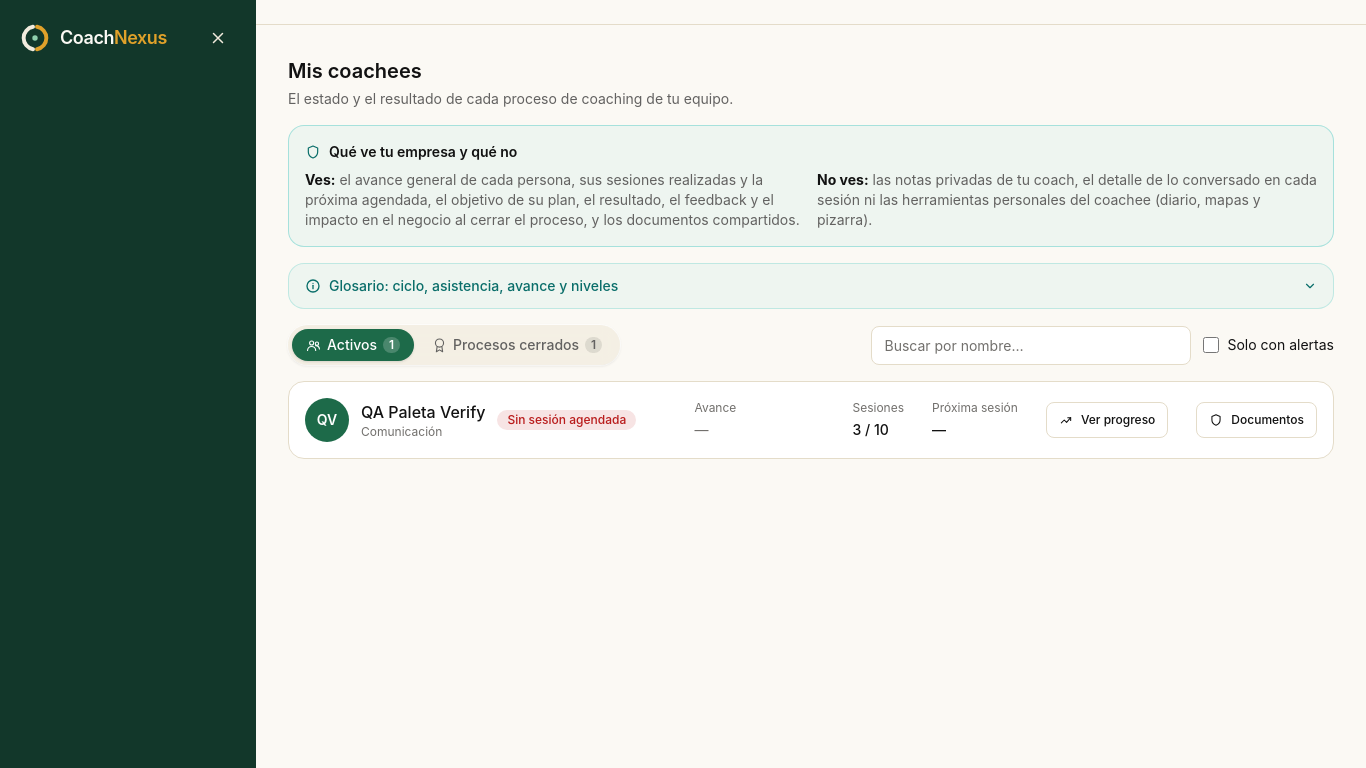
Scenario: CoacheesView (empresa) › separates a closed-process coachee into the "Procesos cerrados" tab
The image size is (1366, 768).
Expected: the text "QA Coachee B" is not shown
Click the tab "Procesos cerrados 1": coordinates (517, 345) x1=418 y1=329 x2=616 y2=361
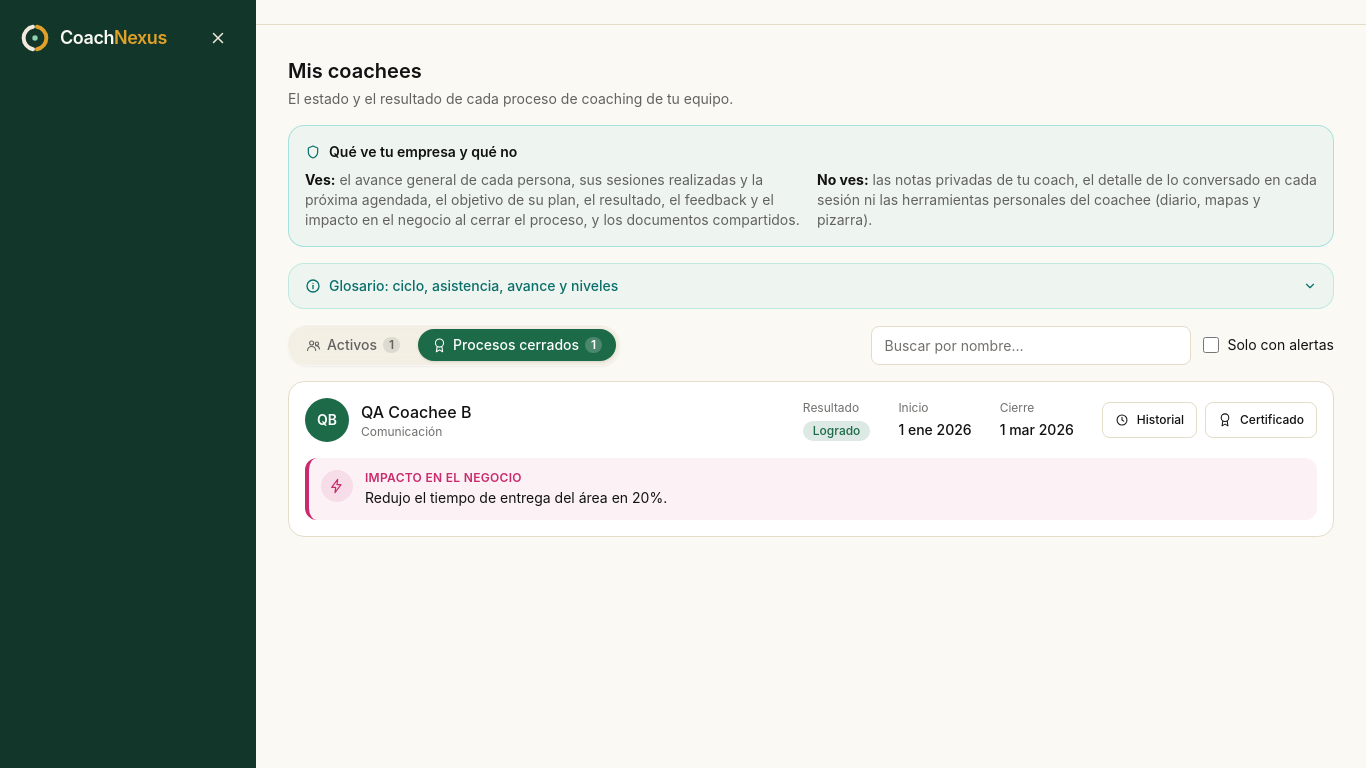
Expected: the text "QA Paleta Verify" is gone
Expected: the text "QA Coachee B" is shown, x1=361 y1=400 x2=471 y2=424
Expected: the text "Logrado" is shown, x1=803 y1=420 x2=870 y2=440
